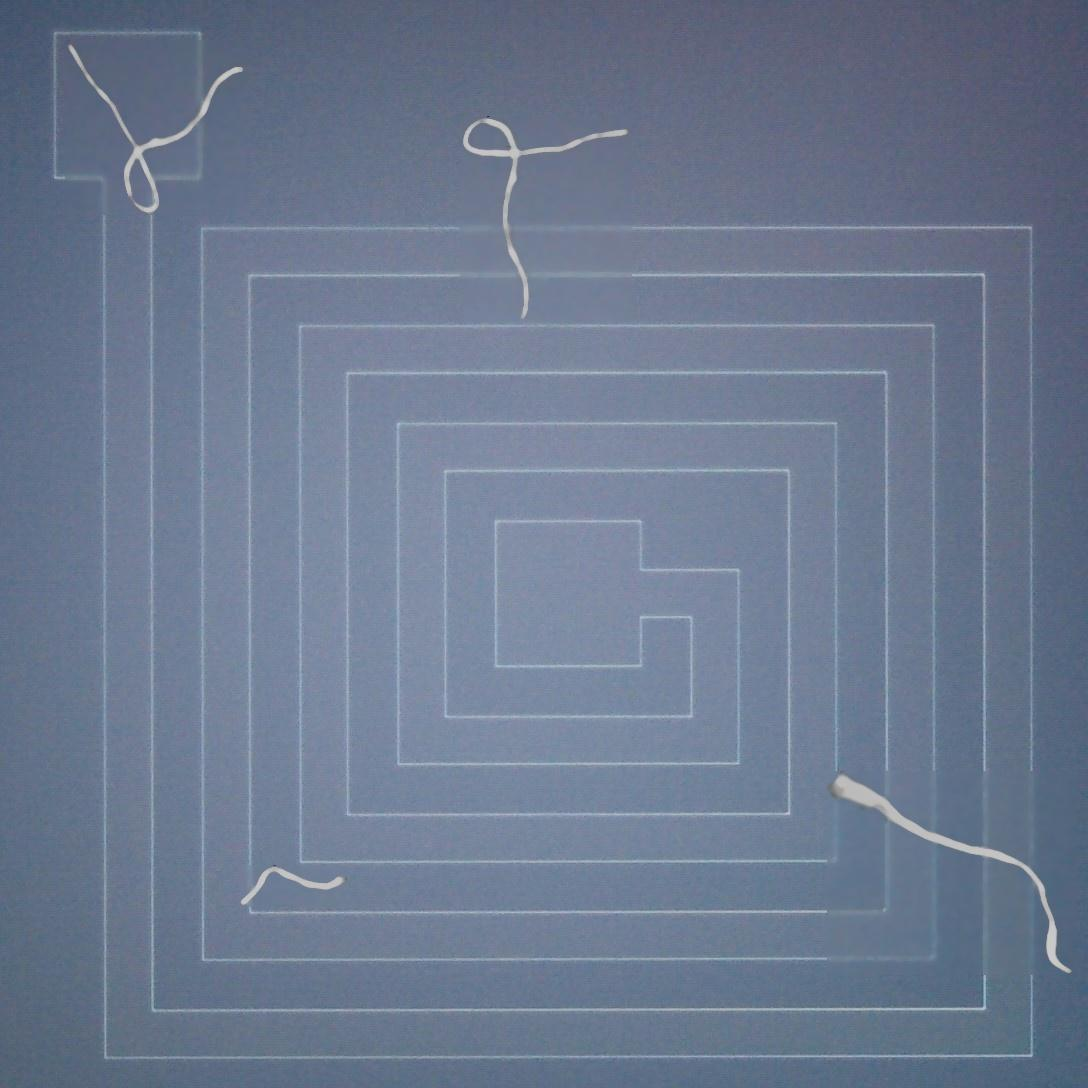foreign: (826, 768, 1077, 982), (454, 108, 634, 327), (65, 38, 250, 223), (231, 858, 346, 911)
